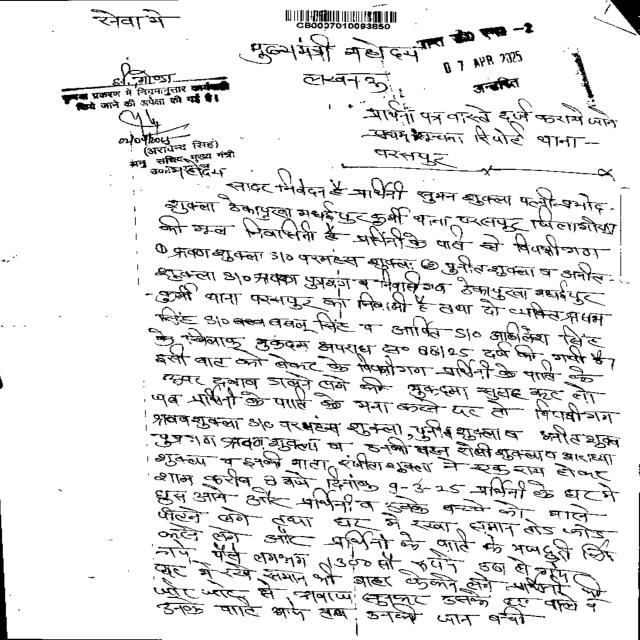antritgovtstamp: (414, 22, 550, 100)
barcode: (284, 4, 400, 34)
signnamestamp: (98, 108, 245, 174)
